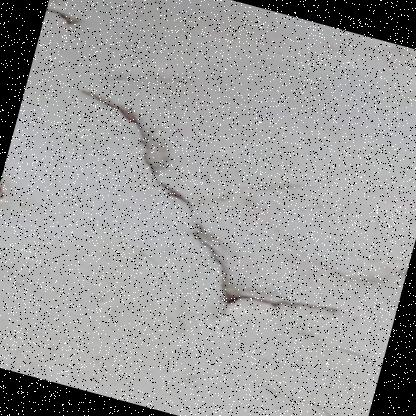Crack: (20, 74, 415, 383), (171, 351, 371, 415), (40, 1, 98, 44), (0, 173, 22, 227)
